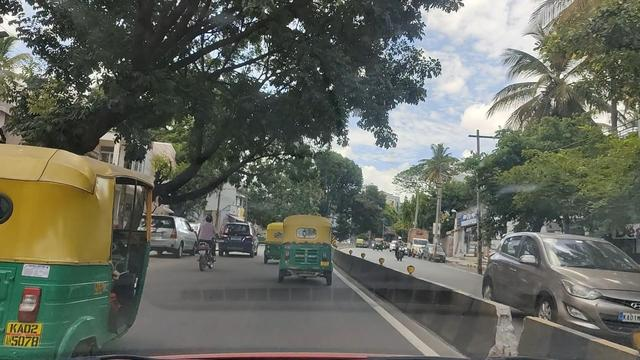LMV: (5, 146, 150, 359), (286, 216, 339, 287), (220, 213, 252, 259), (195, 218, 218, 273)
